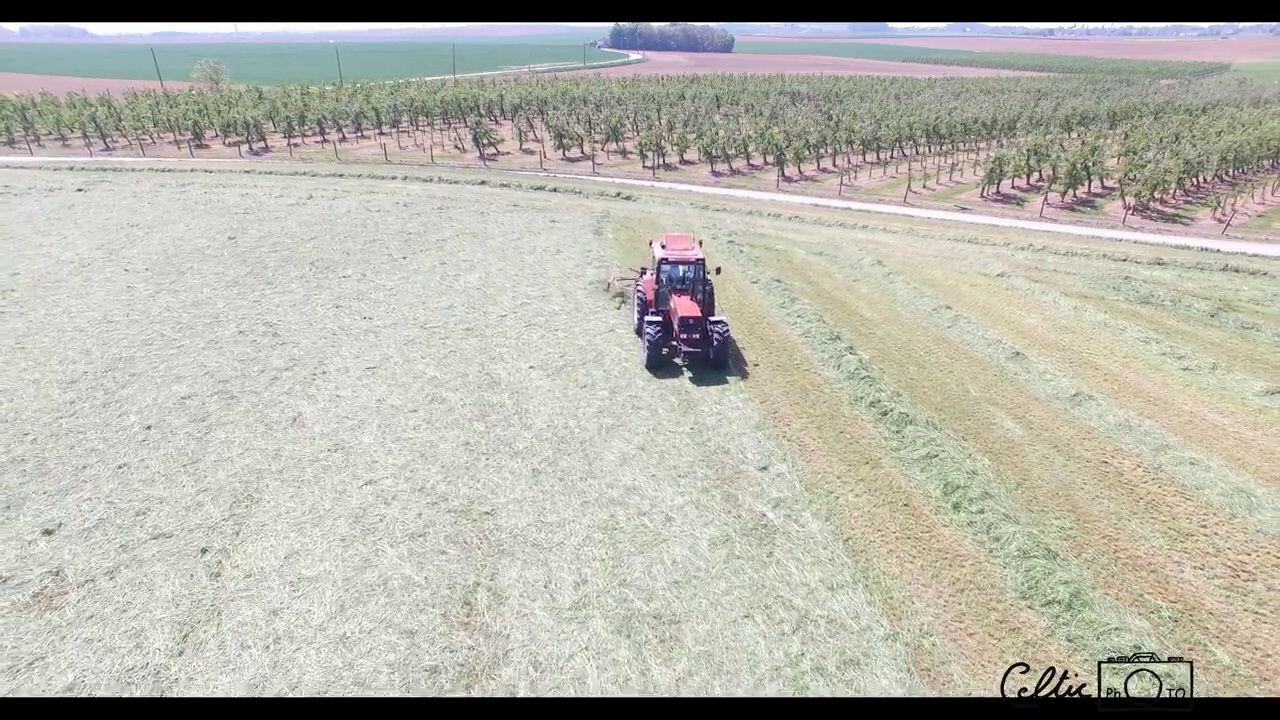traktor: (630, 228, 734, 382)
